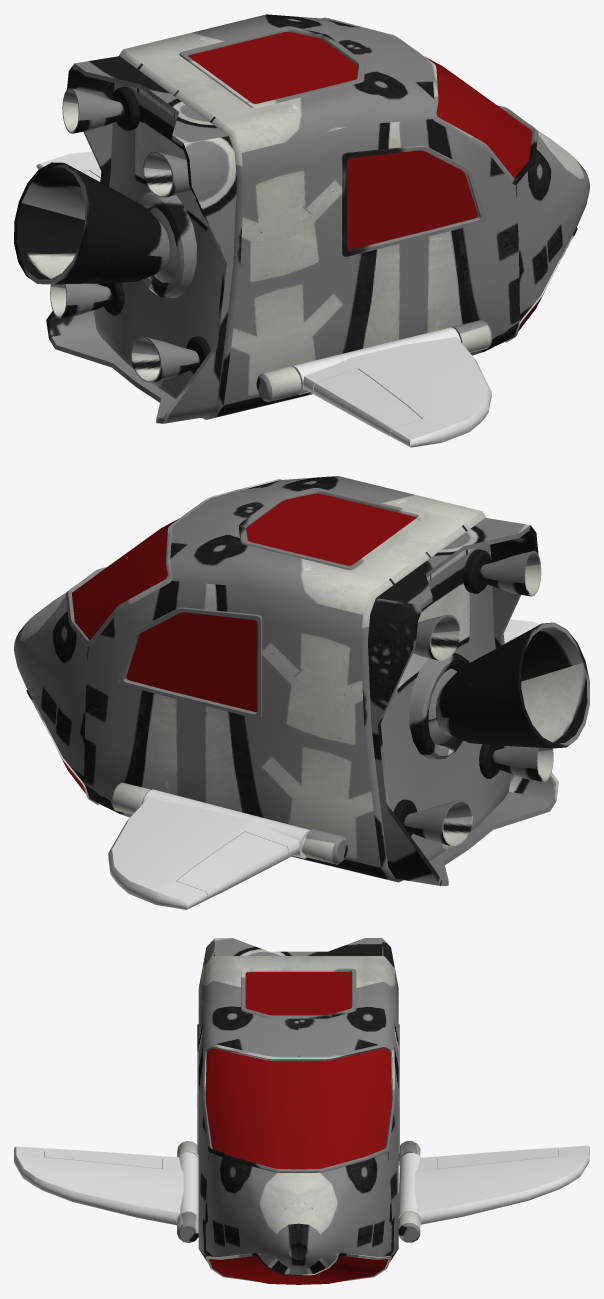
File: small_shuttle.FBX
3 renders of one model, top to bottom at view 1: azimuth 30°, elevation 25°; view 2: azimuth 150°, elevation 25°; view 3: azimuth 270°, elevation 25°, orthographic. The views are drawn at different scales.
Parts seen in each view (by area): view 1: Object006, Object013, small_shuttle_right_wing, small_shuttle_left_wing; view 2: Object006, Object013, small_shuttle_left_wing; view 3: Object006, Object013, small_shuttle_left_wing, small_shuttle_right_wing.
Part boxes in pixels (left/top/right/bottom): Object006: left=14, top=14, right=589, bottom=423; Object013: left=188, top=32, right=545, bottom=331; small_shuttle_right_wing: left=292, top=327, right=491, bottom=447; small_shuttle_left_wing: left=36, top=151, right=101, bottom=181; Object006: left=14, top=476, right=589, bottom=885; Object013: left=58, top=493, right=416, bottom=793; small_shuttle_left_wing: left=108, top=789, right=310, bottom=909; Object006: left=177, top=938, right=420, bottom=1281; Object013: left=205, top=972, right=391, bottom=1284; small_shuttle_left_wing: left=398, top=1145, right=589, bottom=1224; small_shuttle_right_wing: left=14, top=1146, right=198, bottom=1225.
Bounding box in the file's own units: 122 × 62.55 × 144.
